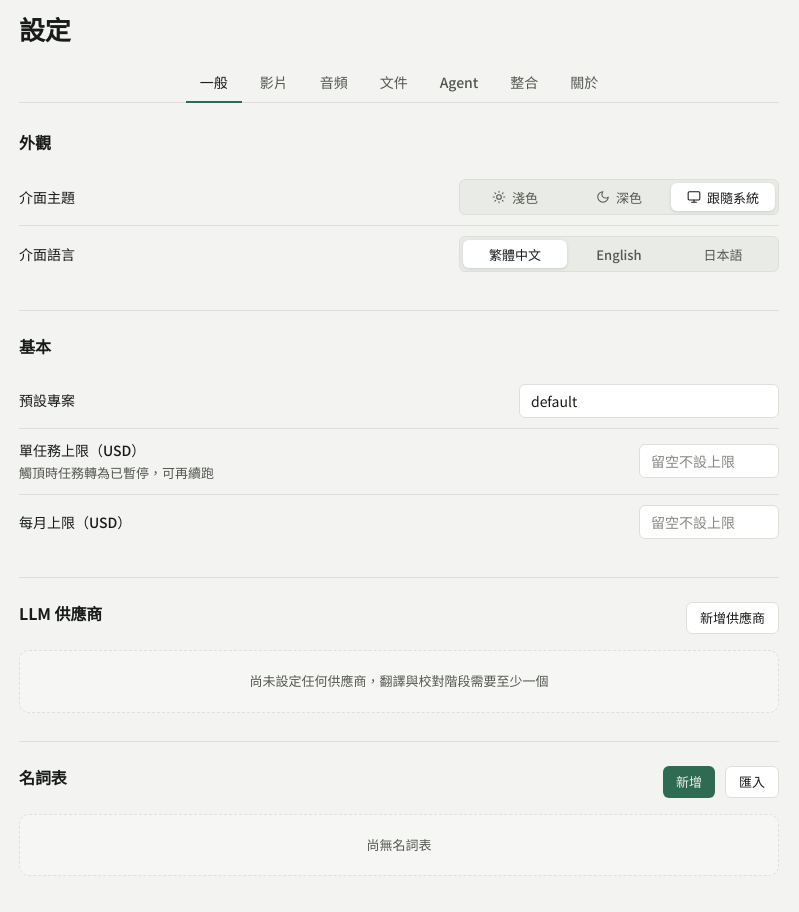
Test: editing default project shows save bar and saves full document
Type "-x" into the field labelled "預設專案". click: (649, 401)
box: [519,384,779,418]
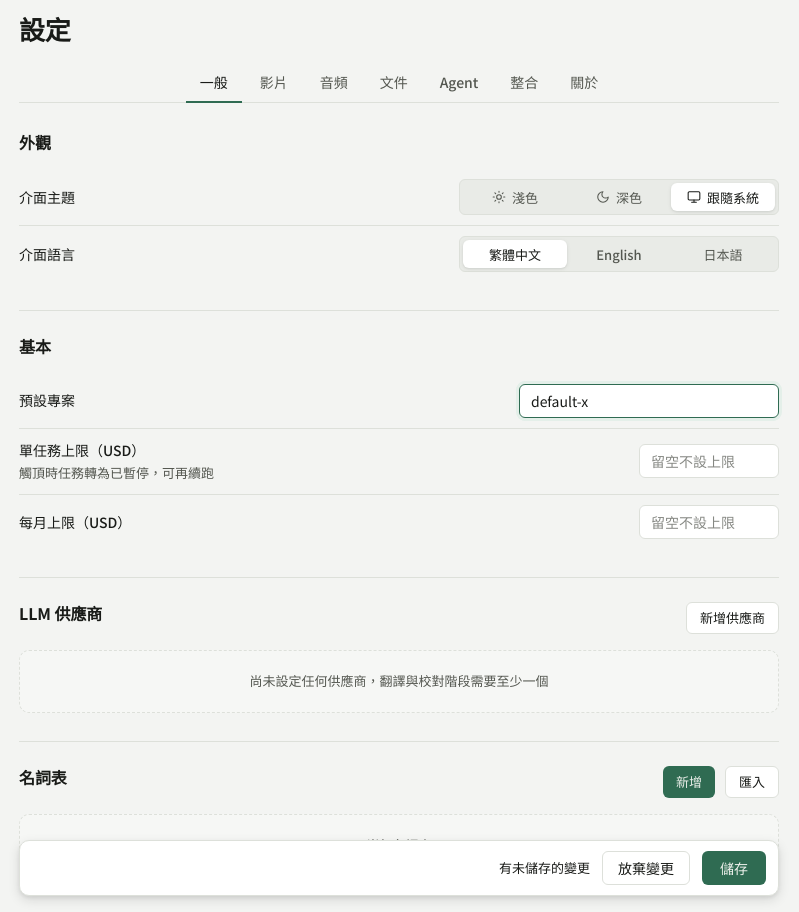
Expected: the text "有未儲存的變更" is shown, [499,858,590,878]
Click the button "儲存". click: (734, 868)
box: [702,851,766,885]
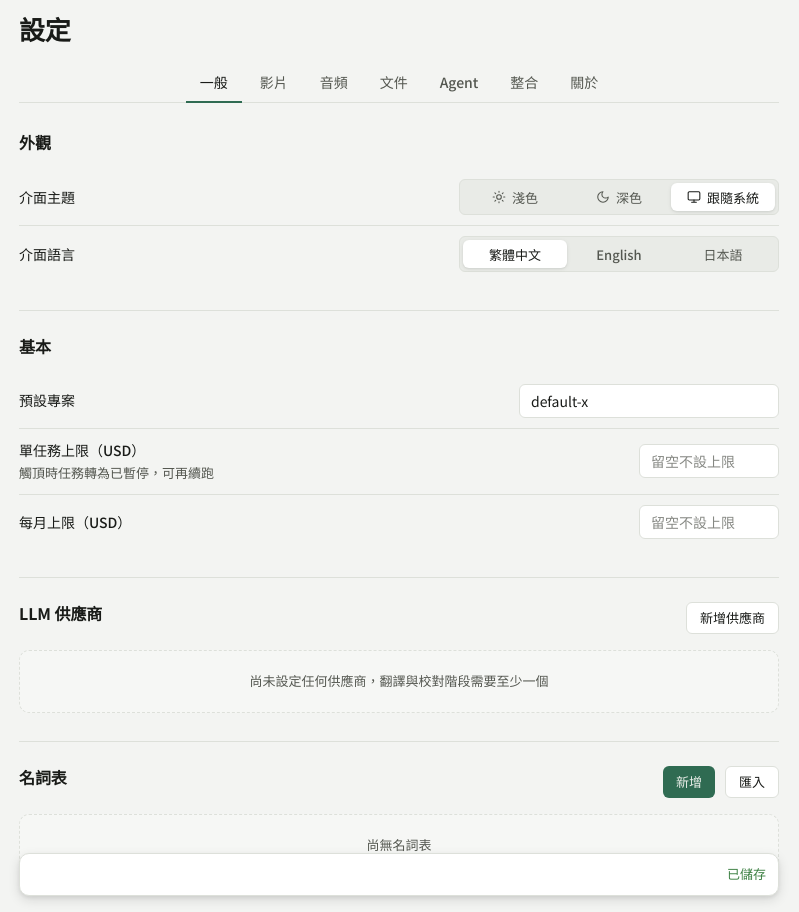
Expected: the text "已儲存" is shown, [727,864,766,885]
